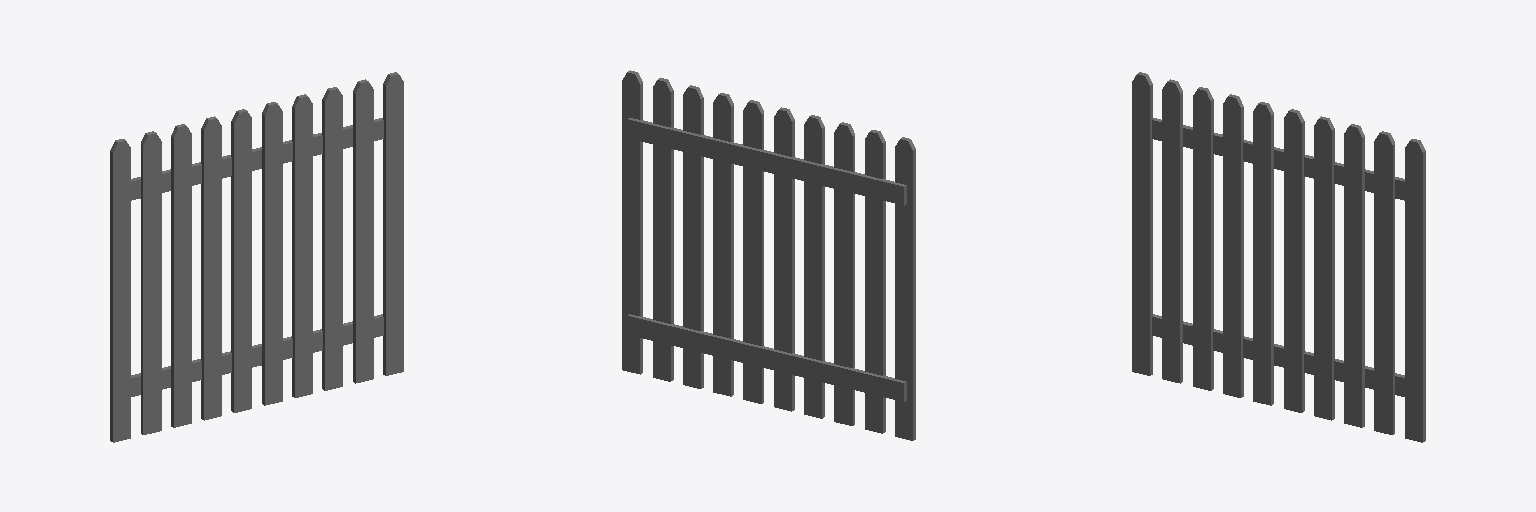
File: Gartenzaun.obj
3 views of the same model, side by side, from view 1: azimuth 30°, elevation 25°; view 2: azimuth 150°, elevation 25°; view 3: azimuth 330°, elevation 25° (orthographic).
Visible parts, largest first — view 1: Gartenzaun1; view 2: Gartenzaun1; view 3: Gartenzaun1.
Part boxes in pixels (x1,y1,x2,y2): Gartenzaun1: (110,72,403,442); Gartenzaun1: (622,70,915,440); Gartenzaun1: (1132,72,1425,442).
Size of the model in its own units: 143 by 141 by 4.36.